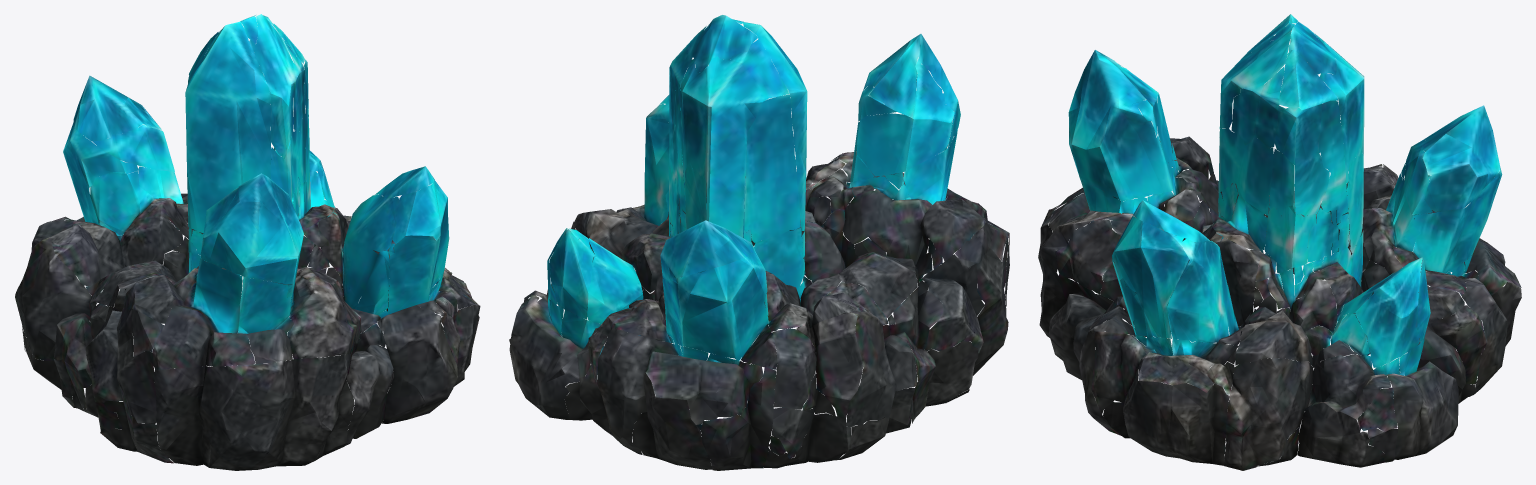
The model's file is mine-energy.glb.
3 renders of one model, left to right at view 1: azimuth 30°, elevation 25°; view 2: azimuth 150°, elevation 25°; view 3: azimuth 270°, elevation 25°, orthographic. The views are drawn at different scales.
Visible parts, largest first — view 1: mine-energy-body; view 2: mine-energy-body; view 3: mine-energy-body.
Boxes of the visible parts, <box> form: mine-energy-body: <box>15,14,480,470</box>; mine-energy-body: <box>509,15,1009,470</box>; mine-energy-body: <box>1038,14,1521,470</box>.
Bounding box in the file's own units: 0.9281 × 0.8255 × 1.
Materials: 1 (1 with a texture image).
